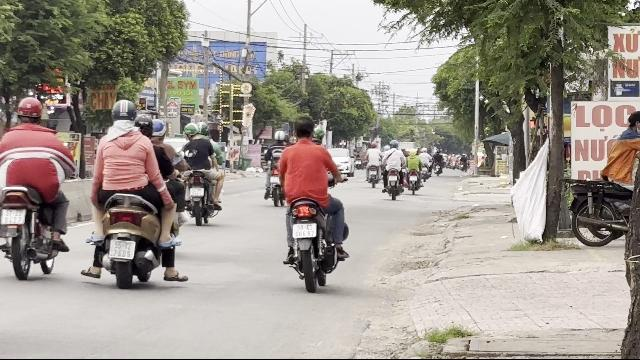helmet: (14, 97, 44, 125), (109, 99, 137, 126), (150, 118, 166, 138), (135, 114, 151, 134)
licenseplate: (109, 240, 135, 260), (1, 208, 25, 224), (292, 224, 316, 238)
motorcyclist: (82, 96, 186, 288), (0, 95, 74, 279), (275, 116, 351, 290)
nohelmet: (293, 118, 315, 140)
